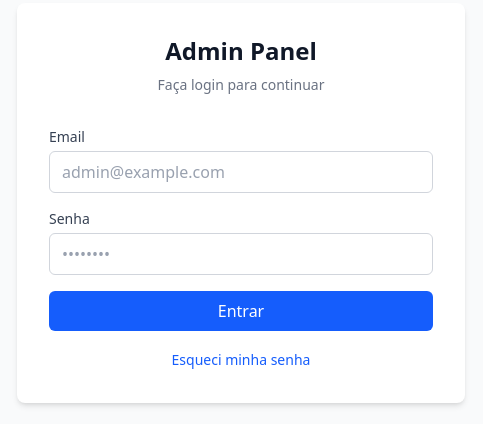
LoginPage › switching to reset mode hides password field and shows "Enviar email de recuperação" button
Expected: the password field labelled "Senha" is shown, 49,233 -> 433,275
Expected: the button "Entrar" is shown, 49,291 -> 433,331
Click the button "Esqueci minha senha".
click(241, 360)  # box 172,350 -> 310,370
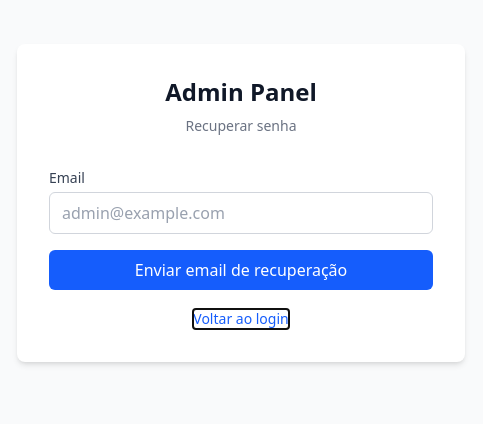
Result: the button "Enviar email de recuperação" is shown at 49,250 -> 433,290
